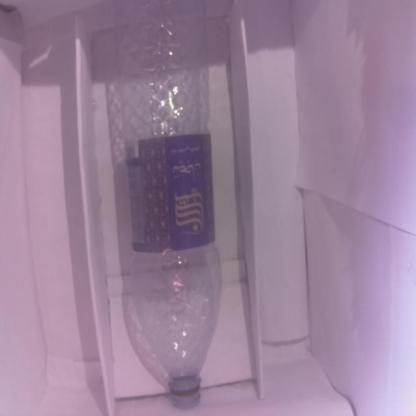Plastic Bottle: (112, 0, 222, 409)
